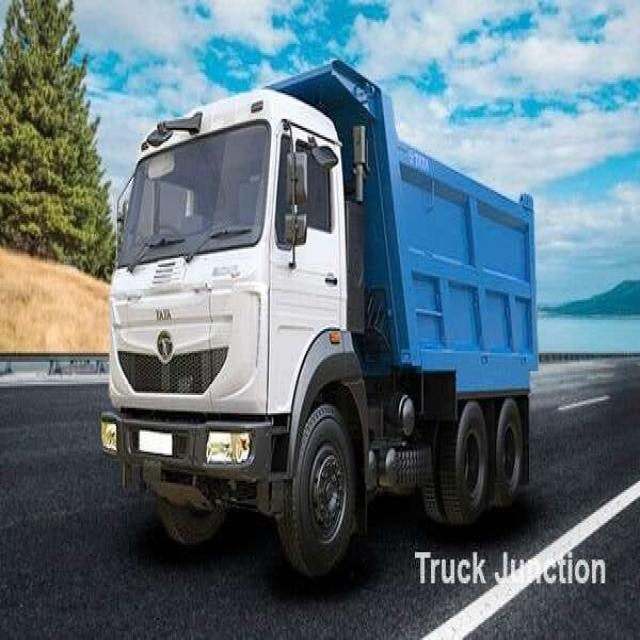dump_truck: (86, 57, 549, 589)
